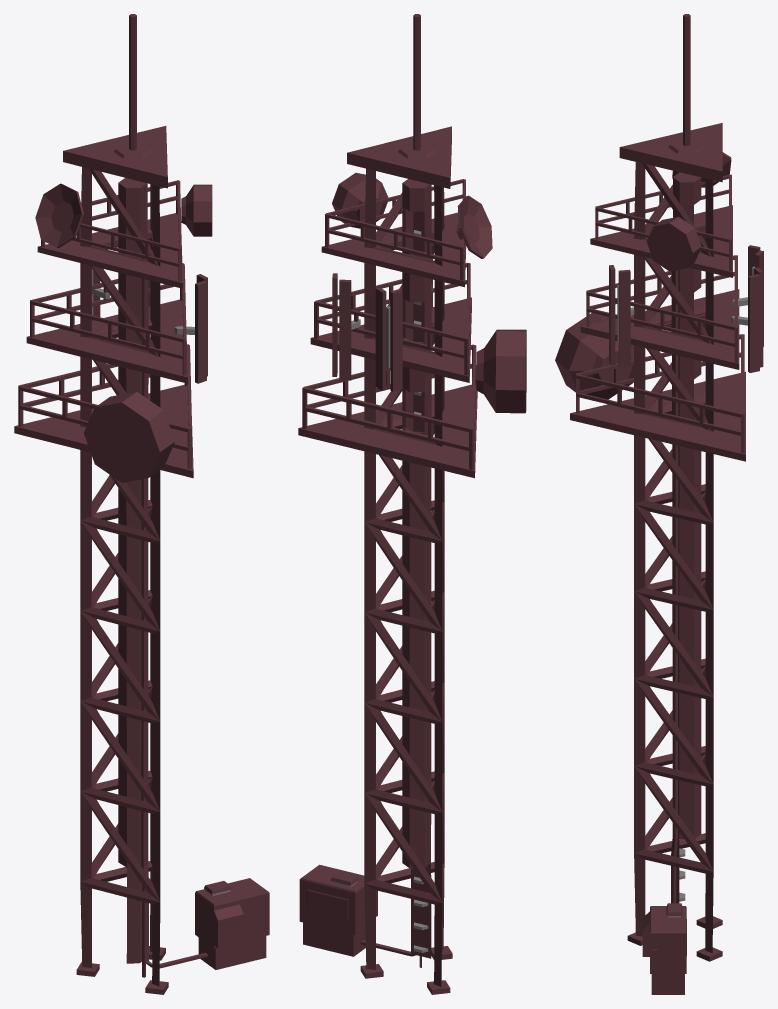
File: cell-tower-triangle.fbx
The picture shows the model from 3 angles, left to right: view 1: azimuth 30°, elevation 25°; view 2: azimuth 150°, elevation 25°; view 3: azimuth 270°, elevation 25°; orthographic projection. The views are drawn at different scales.
Parts seen in each view (by area): view 1: cell-tower-triangle; view 2: cell-tower-triangle; view 3: cell-tower-triangle.
Boxes of the visible parts, bbox=[...] form: cell-tower-triangle: bbox=[14, 14, 269, 994]; cell-tower-triangle: bbox=[298, 14, 526, 994]; cell-tower-triangle: bbox=[555, 14, 763, 994].
Size of the model in its own units: 6.22 by 27.44 by 5.62.
